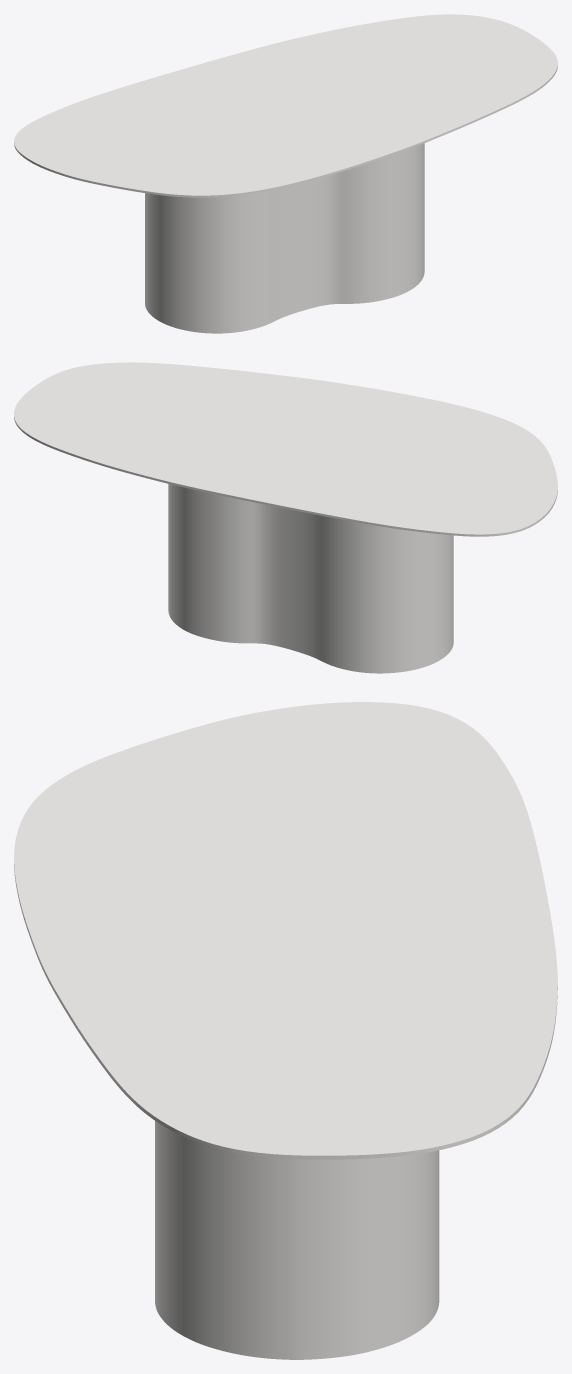
File: purewhite_leaf2_facet_riverwave.glb
3 renders of one model, top to bottom at view 1: azimuth 30°, elevation 25°; view 2: azimuth 150°, elevation 25°; view 3: azimuth 270°, elevation 25°, orthographic. The views are drawn at different scales.
Visible parts, largest first — view 1: facet_leaf2, riverwave; view 2: facet_leaf2, riverwave; view 3: facet_leaf2, riverwave.
Boxes of the visible parts, left/top/right/bottom form: facet_leaf2: left=14, top=14, right=557, bottom=197; riverwave: left=145, top=143, right=424, bottom=333; facet_leaf2: left=14, top=362, right=557, bottom=536; riverwave: left=168, top=484, right=453, bottom=673; facet_leaf2: left=14, top=702, right=557, bottom=1159; riverwave: left=155, top=1121, right=439, bottom=1359.
Size of the model in its own units: 7.5 by 2.5 by 3.8.
1 material, 1 textured.
